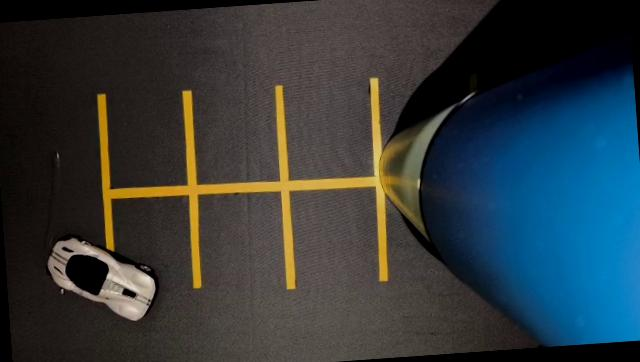toy_car: (31, 210, 176, 344)
